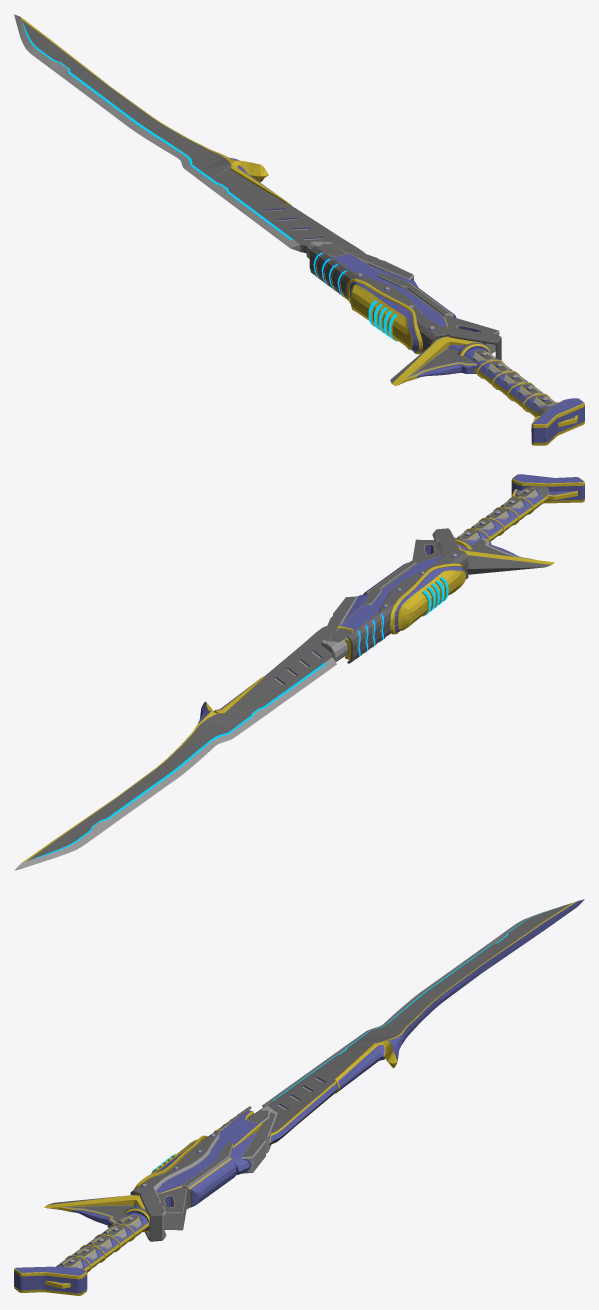
The model's file is remake_553.glb.
3 views of the same model, one above another, from view 1: azimuth 30°, elevation 25°; view 2: azimuth 150°, elevation 25°; view 3: azimuth 330°, elevation 25° (orthographic). The views are drawn at different scales.
Visible parts, largest first — view 1: remake_553; view 2: remake_553; view 3: remake_553.
Part boxes in pixels (left/top/right/bottom): remake_553: left=14, top=14, right=584, bottom=445; remake_553: left=14, top=474, right=584, bottom=870; remake_553: left=14, top=899, right=584, bottom=1295.
Size of the model in its own units: 0.1504 by 0.0403 by 1.17.
